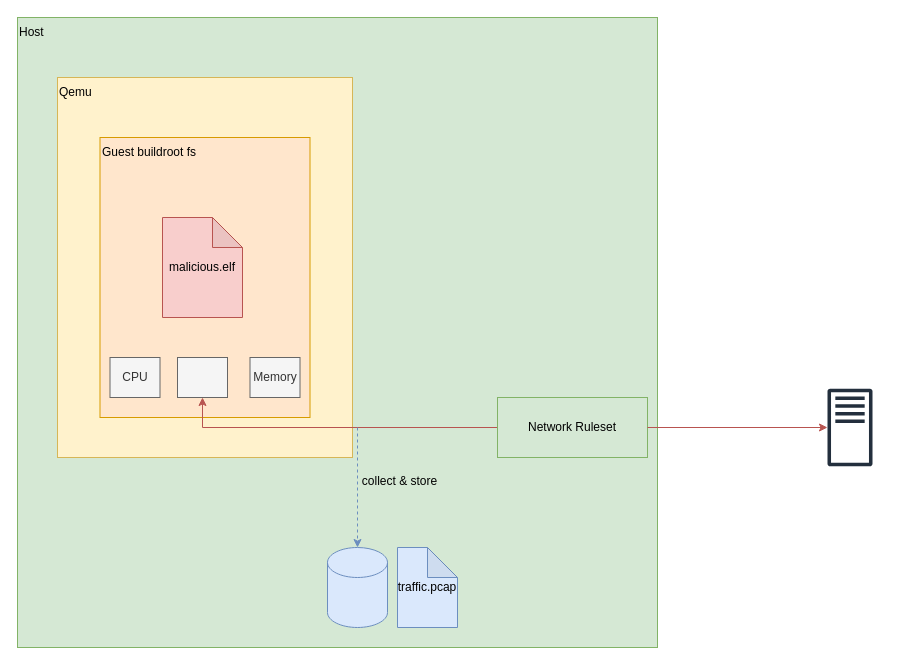
Some shapes in this 904 by 665 pixel diagram are drawn without their labels. The shapes that lost their labels are listed below. From the top down, each one's centre as x and y in pixels, then its label:
At pixel 202 377: "Network device".
At pixel 849 427: "Shady Server".
